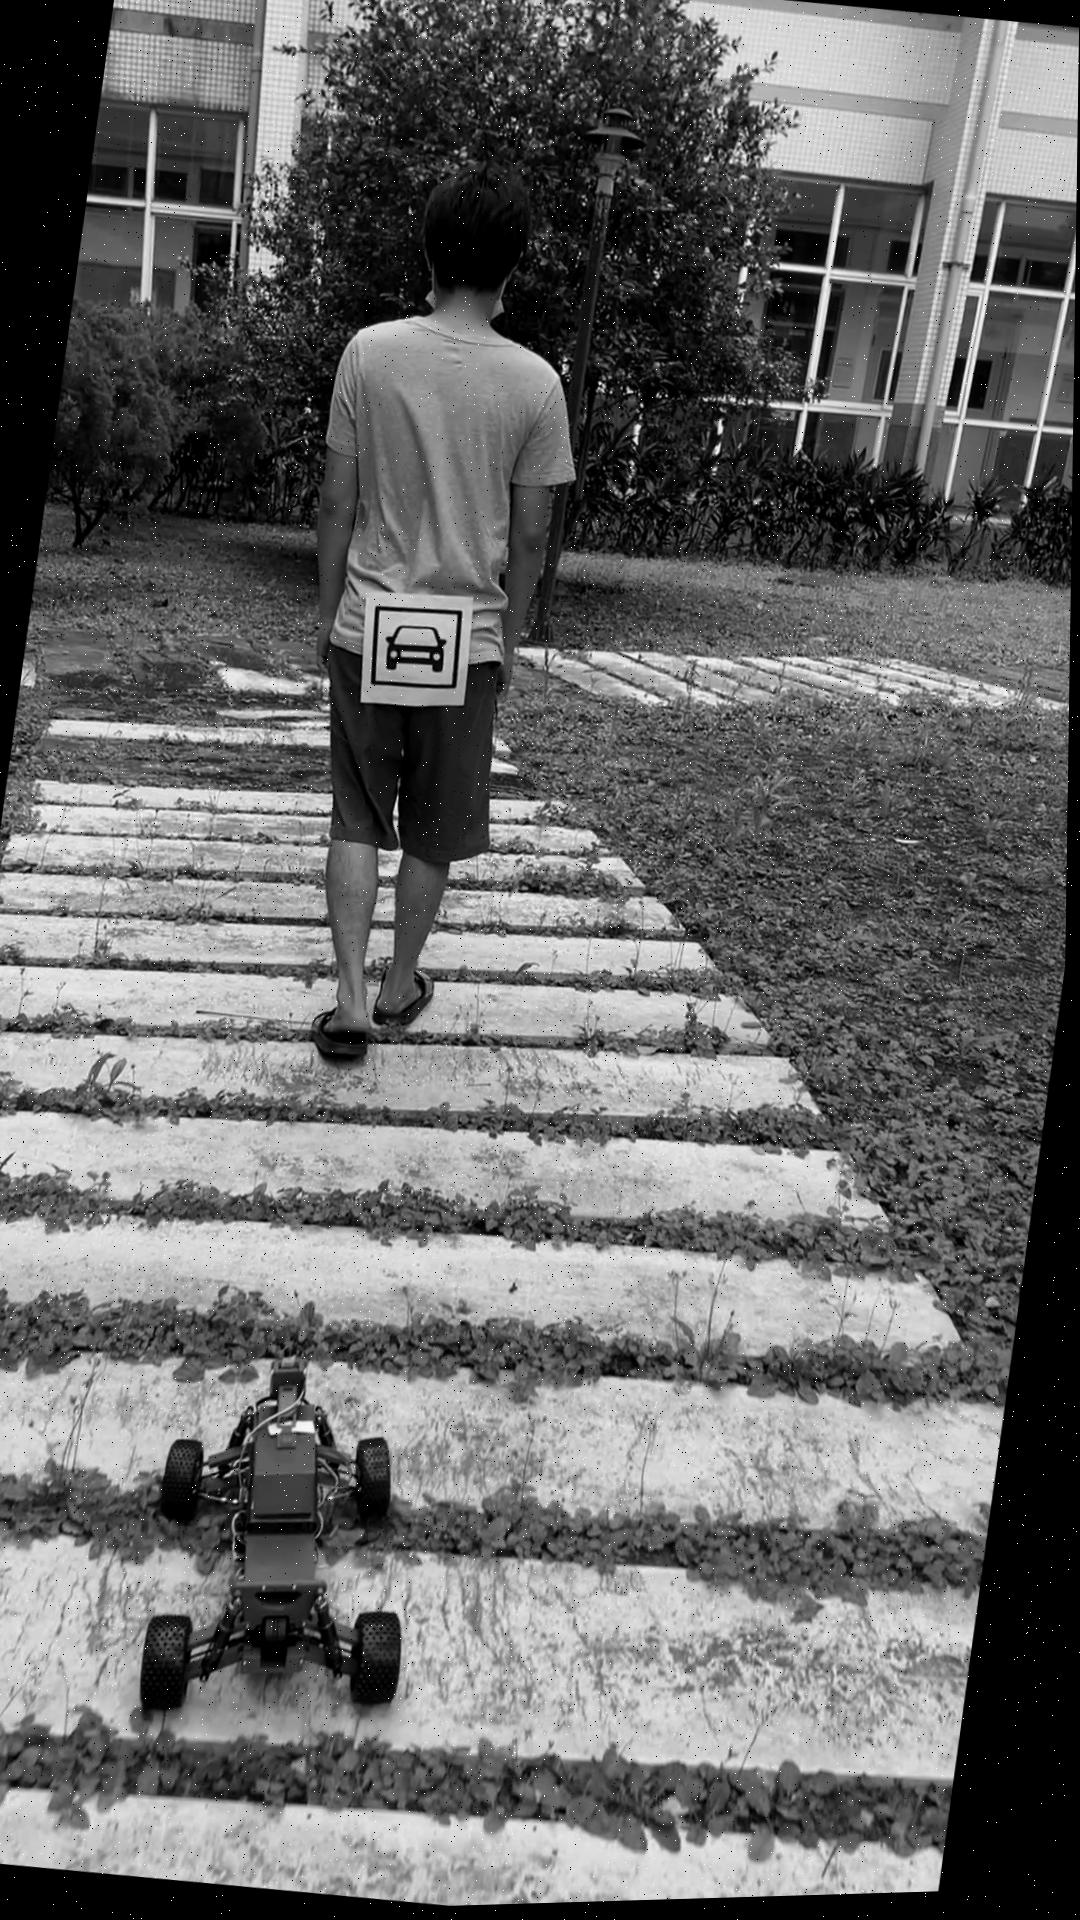car_img: (364, 600, 469, 698)
